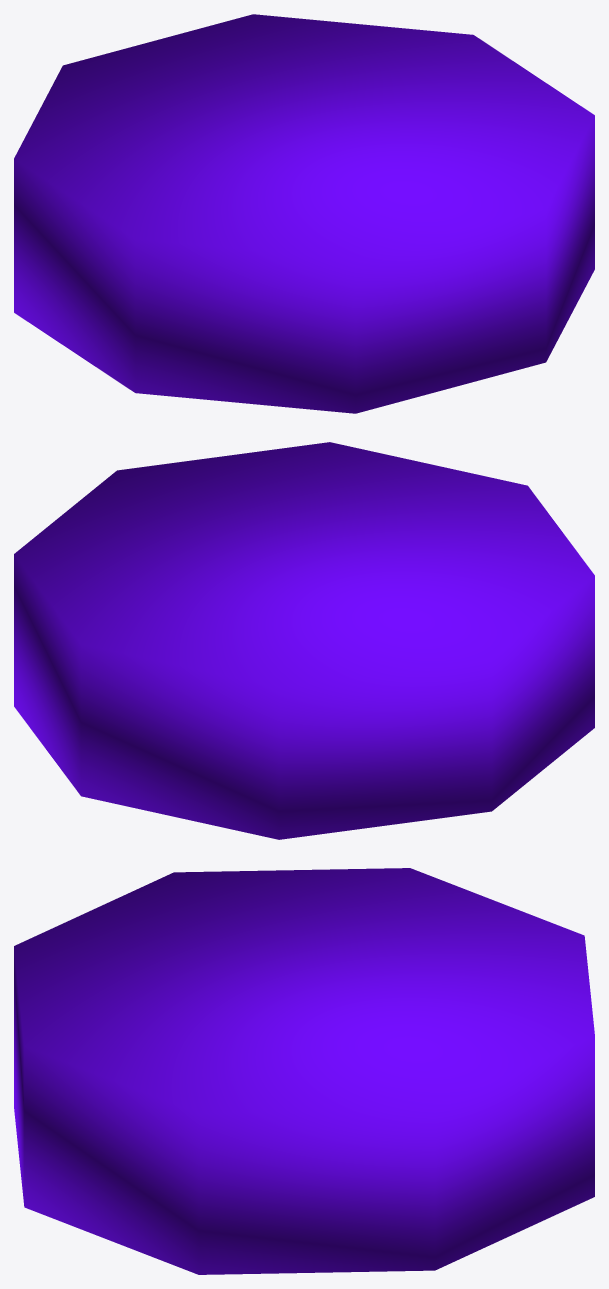
File: hospital_staff_medicine_pill_round_1_meshCollider.fbx
3 views of the same model, one above another, from view 1: azimuth 30°, elevation 25°; view 2: azimuth 150°, elevation 25°; view 3: azimuth 270°, elevation 25° (orthographic). The views are drawn at different scales.
Visible parts, largest first — view 1: hospital_staff_medicine_pill_round_1_meshCollider; view 2: hospital_staff_medicine_pill_round_1_meshCollider; view 3: hospital_staff_medicine_pill_round_1_meshCollider.
Boxes of the visible parts, x1,y1,x2,y2 form: hospital_staff_medicine_pill_round_1_meshCollider: [14, 14, 594, 413]; hospital_staff_medicine_pill_round_1_meshCollider: [14, 442, 594, 839]; hospital_staff_medicine_pill_round_1_meshCollider: [14, 868, 594, 1274].
Bounding box in the file's own units: 2.89 × 0.8872 × 2.89.
